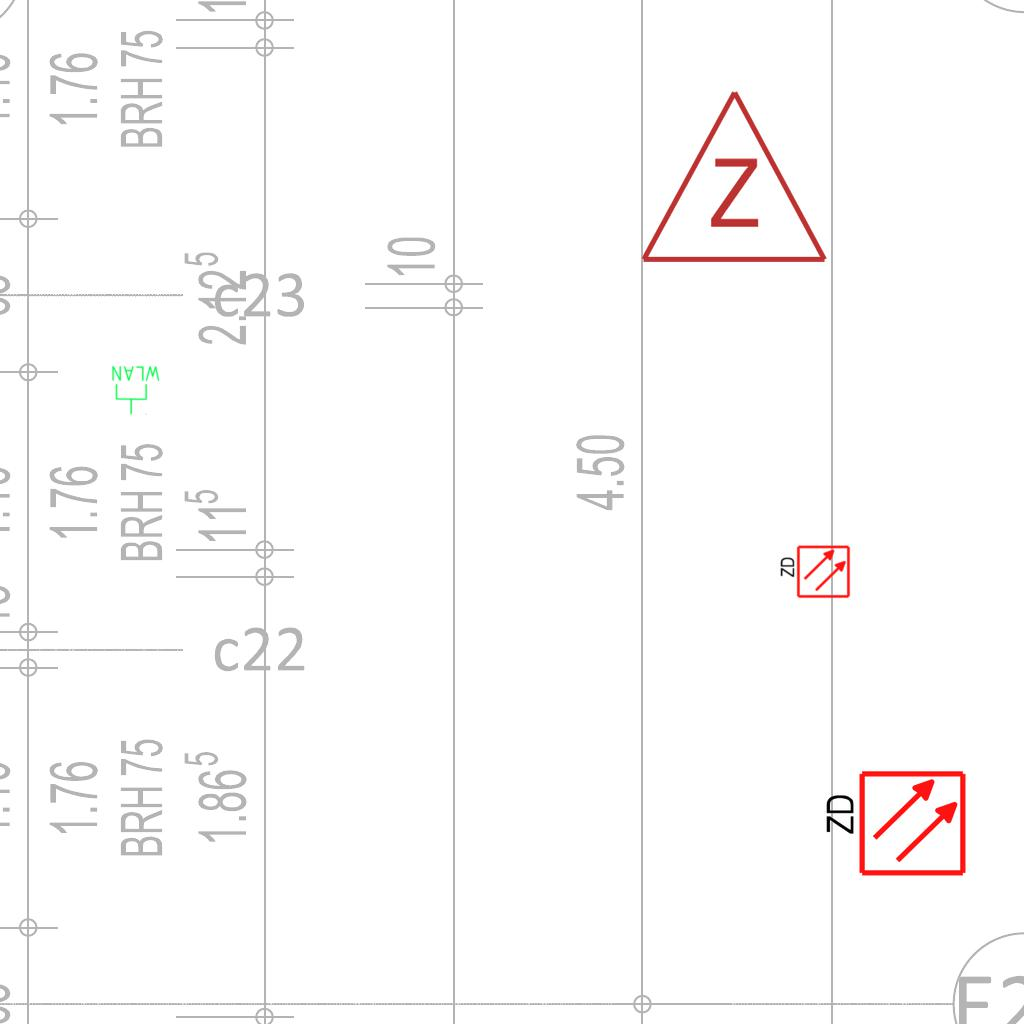WLAN: (110, 364, 162, 416)
ZD_Melder_in_Zwischendecke_mit_Revisionsoeffnung_mind_40_x_40_cm: (819, 768, 968, 882), (777, 544, 851, 601)
Zimmersignalleuchte: (634, 77, 830, 277)
